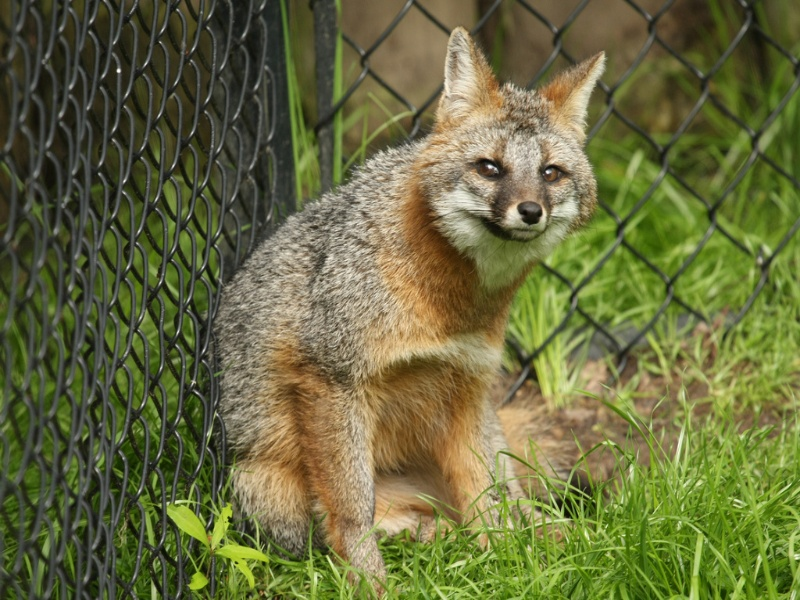fox: (217, 27, 614, 564)
